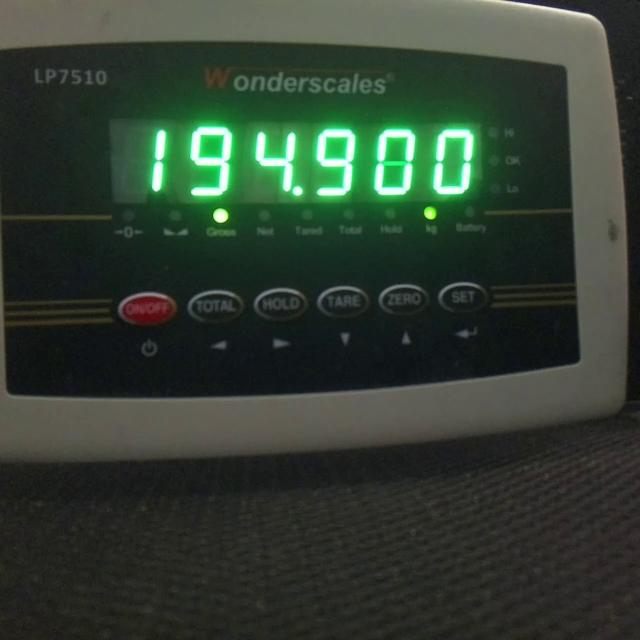.: (291, 184, 304, 197)
0: (433, 128, 474, 194)
1: (150, 129, 167, 192)
4: (255, 128, 297, 194)
8: (374, 128, 416, 196)
9: (189, 126, 233, 197), (314, 129, 356, 197)
